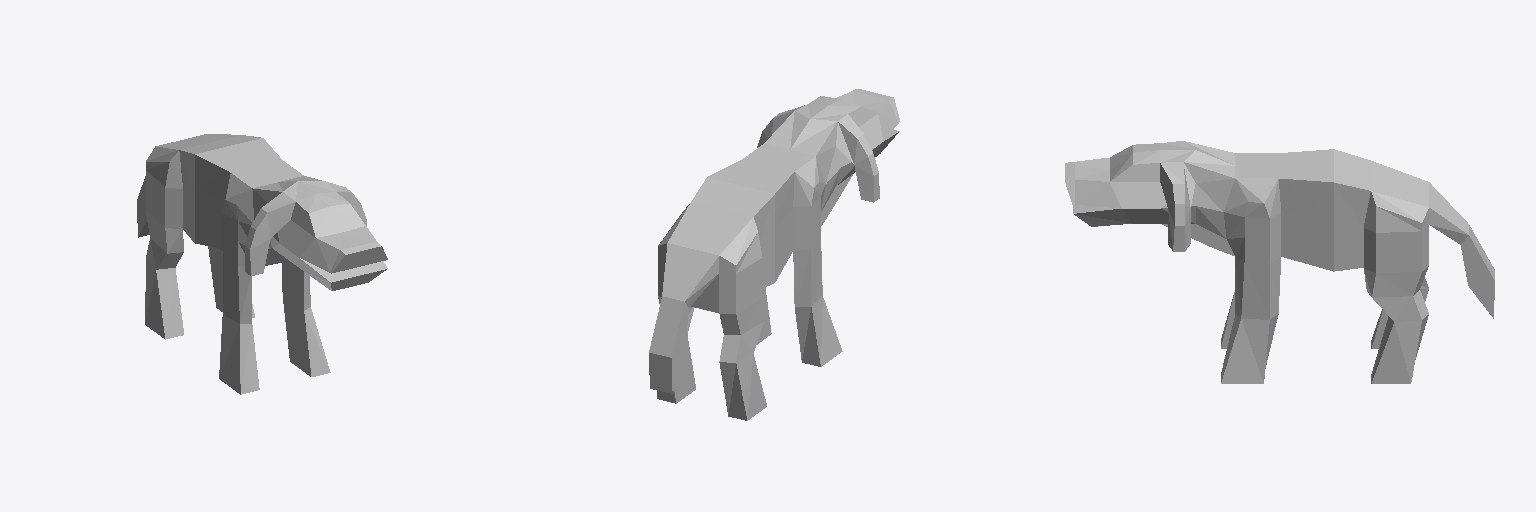
Rendered from dog.obj.
3 renders of one model, left to right at view 1: azimuth 30°, elevation 25°; view 2: azimuth 150°, elevation 25°; view 3: azimuth 270°, elevation 25°, orthographic.
Parts seen in each view (by area): view 1: Dog; view 2: Dog; view 3: Dog.
Boxes of the visible parts, box(x1,y1,x2,y2) form: Dog: box(137, 134, 387, 394); Dog: box(649, 89, 899, 420); Dog: box(1065, 141, 1494, 383).
Bounding box in the file's own units: 1403 × 2431 × 4471.